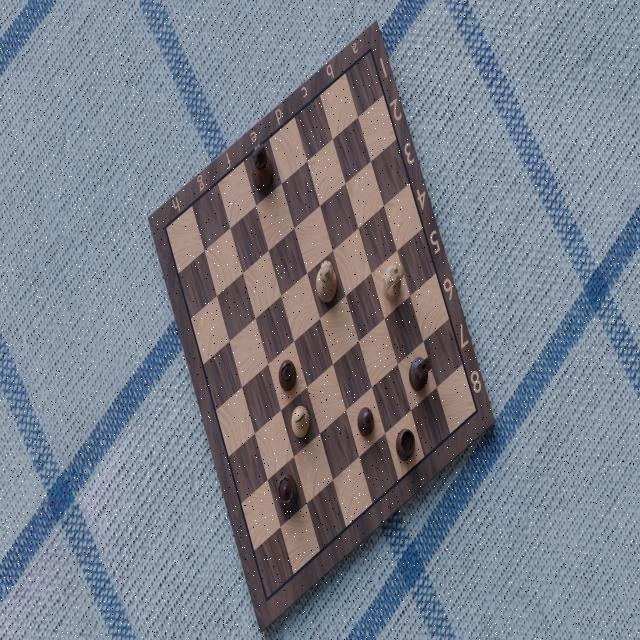black-bishop: (277, 356, 299, 391)
black-king: (250, 139, 275, 199)
black-knight: (407, 348, 434, 400)
black-pawn: (357, 400, 375, 440)
black-queen: (275, 469, 301, 513)
black-rook: (394, 421, 418, 466)
white-bishop: (288, 402, 312, 442)
white-king: (314, 256, 338, 305)
white-knight: (380, 258, 405, 305)
